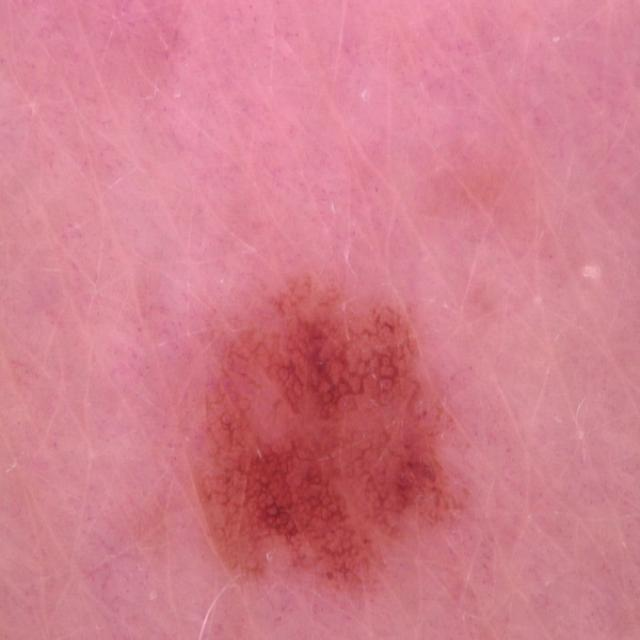NV: (193, 273, 468, 602)
